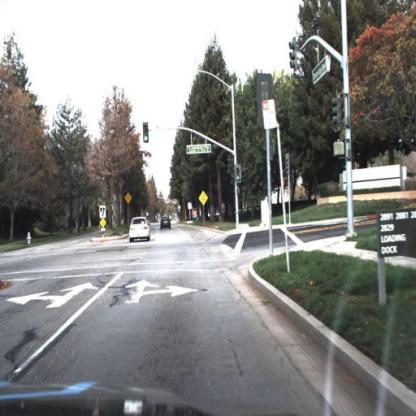car: (129, 213, 152, 245), (161, 213, 174, 231)
trafficLight-Green: (235, 165, 243, 184), (143, 121, 149, 145)
